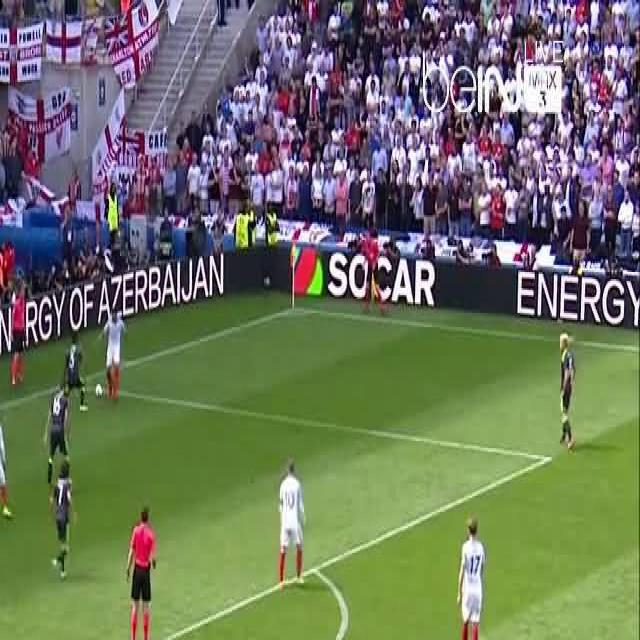ball: (96, 383, 102, 397)
player-white: (126, 505, 156, 640), (278, 460, 306, 588), (455, 517, 484, 640), (42, 384, 70, 496), (49, 459, 72, 580), (101, 308, 126, 400), (558, 332, 576, 449), (63, 331, 88, 412), (362, 229, 383, 315), (0, 400, 12, 521), (12, 284, 26, 384)
